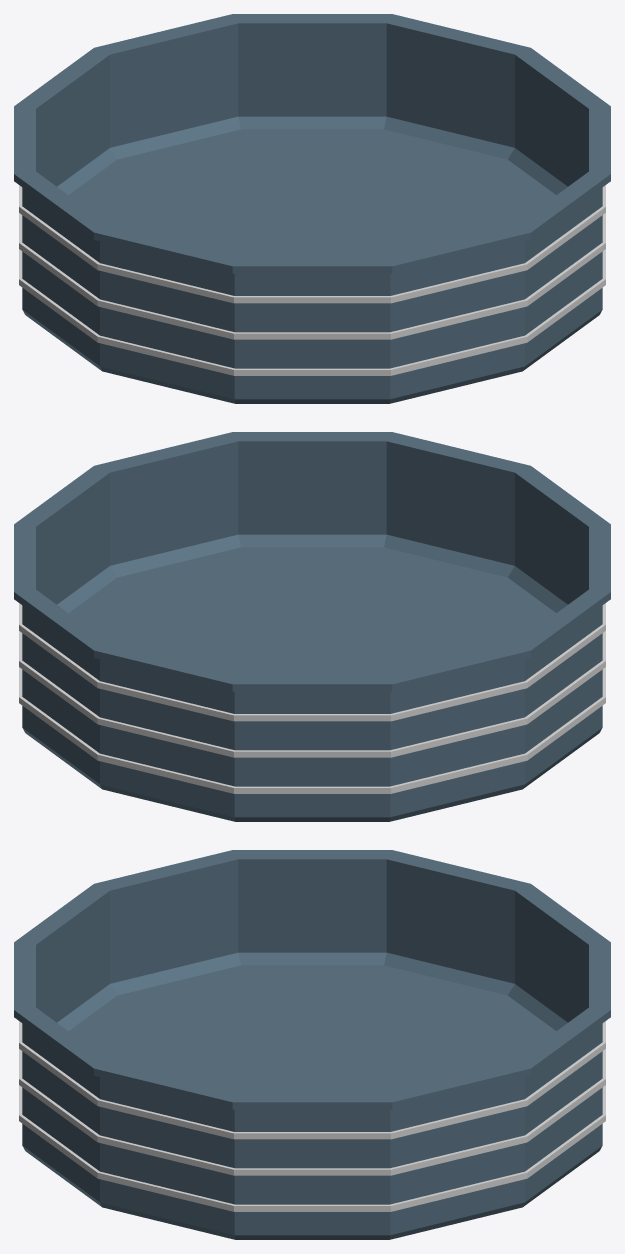
The model's file is Garden Pool.glb.
The picture shows the model from 3 angles, top to bottom: view 1: azimuth 30°, elevation 25°; view 2: azimuth 150°, elevation 25°; view 3: azimuth 270°, elevation 25°; orthographic projection.
Visible parts, largest first — view 1: Pool; view 2: Pool; view 3: Pool.
Part boxes in pixels (x1,y1,x2,y2): Pool: (14, 14, 610, 403); Pool: (14, 432, 610, 821); Pool: (14, 850, 610, 1239).
Size of the model in its own units: 3.77 by 1.01 by 3.77.
Materials: 1 (1 with a texture image).
